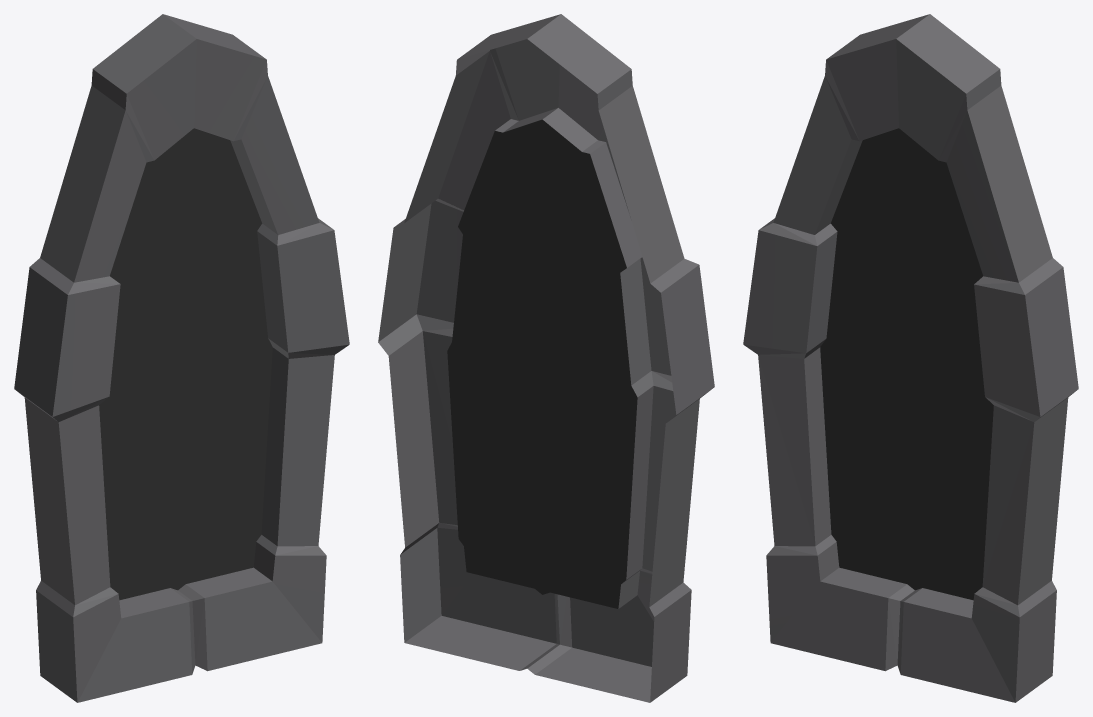
The model's file is SM_Bld_Church_Window_01.gltf.
The picture shows the model from 3 angles, left to right: view 1: azimuth 30°, elevation 25°; view 2: azimuth 150°, elevation 25°; view 3: azimuth 330°, elevation 25°; orthographic projection.
Visible parts, largest first — view 1: SM_Bld_Church_Window_01; view 2: SM_Bld_Church_Window_01; view 3: SM_Bld_Church_Window_01.
Part boxes in pixels (x1,y1,x2,y2): SM_Bld_Church_Window_01: (14,14,349,702); SM_Bld_Church_Window_01: (378,14,714,702); SM_Bld_Church_Window_01: (743,14,1078,702).
Size of the model in its own units: 0.7527 by 1.53 by 0.1685.
1 material, 1 textured.
